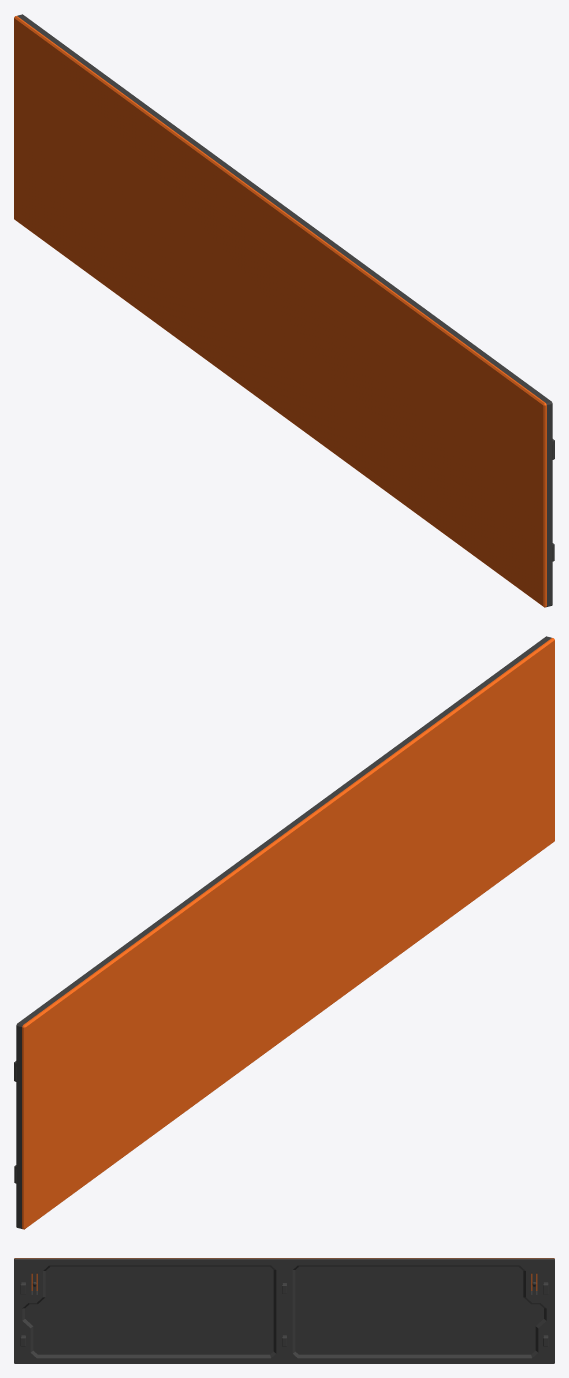
Rendered from SideCover_270-1H.lib.glb.
3 views of the same model, one above another, from view 1: azimuth 30°, elevation 25°; view 2: azimuth 150°, elevation 25°; view 3: azimuth 270°, elevation 25° (orthographic). The views are drawn at different scales.
Parts seen in each view (by area): view 1: SideCover_270-1H; view 2: SideCover_270-1H; view 3: SideCover_270-1H.
Boxes of the visible parts, x1,y1,x2,y2 form: SideCover_270-1H: [14, 14, 554, 607]; SideCover_270-1H: [14, 636, 554, 1229]; SideCover_270-1H: [14, 1258, 554, 1363].
Size of the model in its own units: 5.05 by 55.59 by 262.
